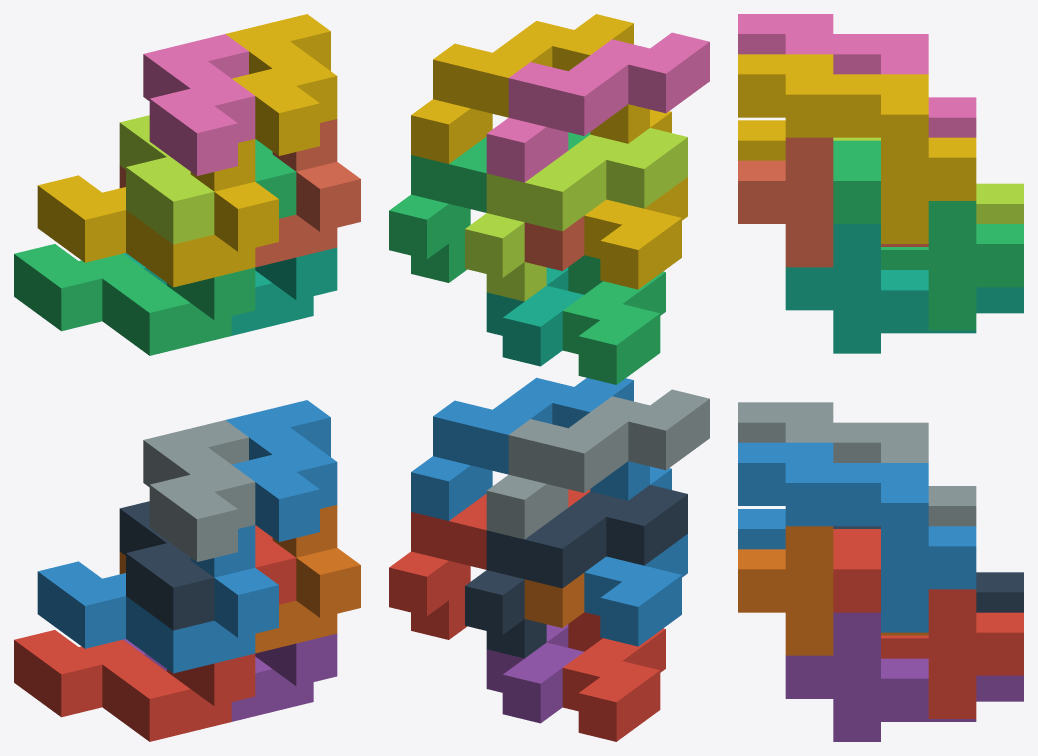
Rendered from tiling.obj.
3 views of the same model, side by side, from view 1: azimuth 30°, elevation 25°; view 2: azimuth 150°, elevation 25°; view 3: azimuth 270°, elevation 25° (orthographic). The views are drawn at different scales.
Visible parts, largest first — view 1: copy_1_domain_2, copy_1_domain_4, copy_1_domain_3, copy_1_domain_1, copy_2_domain_2, copy_2_domain_4, copy_2_domain_8, copy_2_domain_6, copy_1_domain_8, copy_1_domain_6, copy_2_domain_1, copy_2_domain_3 (+4 smaller); view 2: copy_2_domain_1, copy_2_domain_3, copy_2_domain_4, copy_2_domain_2, copy_2_domain_8, copy_2_domain_6, copy_1_domain_2, copy_1_domain_4, copy_1_domain_3, copy_1_domain_1, copy_2_domain_5, copy_2_domain_7 (+4 smaller); view 3: copy_2_domain_6, copy_2_domain_8, copy_2_domain_5, copy_2_domain_7, copy_1_domain_7, copy_1_domain_5, copy_2_domain_4, copy_2_domain_2, copy_1_domain_6, copy_1_domain_8, copy_2_domain_3, copy_2_domain_1 (+4 smaller).
Part boxes in pixels (left/top/right/bottom): copy_1_domain_2: left=37, top=525, right=278, bottom=673; copy_1_domain_4: left=37, top=139, right=278, bottom=287; copy_1_domain_3: left=14, top=244, right=255, bottom=355; copy_1_domain_1: left=14, top=630, right=255, bottom=741; copy_2_domain_2: left=143, top=420, right=255, bottom=561; copy_2_domain_4: left=143, top=34, right=255, bottom=175; copy_2_domain_8: left=226, top=14, right=337, bottom=155; copy_2_domain_6: left=226, top=400, right=337, bottom=541; copy_1_domain_8: left=119, top=119, right=360, bottom=267; copy_1_domain_6: left=119, top=505, right=360, bottom=653; copy_2_domain_1: left=119, top=501, right=214, bottom=630; copy_2_domain_3: left=119, top=115, right=214, bottom=244; copy_2_domain_1: left=465, top=485, right=687, bottom=658; copy_2_domain_3: left=465, top=128, right=687, bottom=301; copy_2_domain_4: left=486, top=32, right=709, bottom=182; copy_2_domain_2: left=486, top=389, right=709, bottom=539; copy_2_domain_8: left=411, top=14, right=633, bottom=163; copy_2_domain_6: left=411, top=377, right=633, bottom=520; copy_1_domain_2: left=584, top=461, right=687, bottom=646; copy_1_domain_4: left=584, top=104, right=687, bottom=289; copy_1_domain_3: left=562, top=255, right=665, bottom=384; copy_1_domain_1: left=562, top=612, right=665, bottom=741; copy_2_domain_5: left=389, top=489, right=590, bottom=639; copy_2_domain_7: left=389, top=132, right=590, bottom=282; copy_2_domain_6: left=738, top=442, right=976, bottom=632; copy_2_domain_8: left=738, top=54, right=976, bottom=243; copy_2_domain_5: left=833, top=529, right=1023, bottom=718; copy_2_domain_7: left=833, top=140, right=1023, bottom=330; copy_1_domain_7: left=785, top=224, right=1023, bottom=353; copy_1_domain_5: left=785, top=612, right=1023, bottom=741; copy_2_domain_4: left=738, top=14, right=976, bottom=137; copy_2_domain_2: left=738, top=402, right=976, bottom=526; copy_1_domain_6: left=738, top=526, right=928, bottom=655; copy_1_domain_8: left=738, top=137, right=928, bottom=267; copy_2_domain_3: left=833, top=137, right=1023, bottom=223; copy_2_domain_1: left=833, top=526, right=1023, bottom=612.
Bounding box in the file's own units: 6 × 15 × 6.
